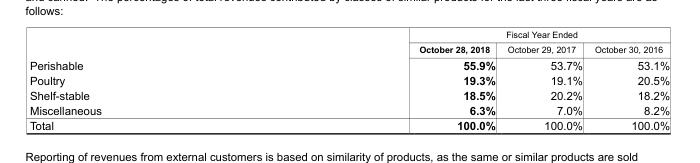table: (28, 28, 669, 131)
table column: (259, 28, 500, 131), (28, 28, 259, 131), (500, 28, 587, 131), (587, 28, 669, 131)
table column header: (28, 28, 669, 56)
table row: (28, 56, 669, 72), (28, 41, 669, 56), (28, 72, 669, 87), (28, 87, 669, 102), (28, 102, 669, 117), (28, 117, 669, 131), (28, 28, 669, 41)
table spanning cell: (259, 28, 669, 41)
